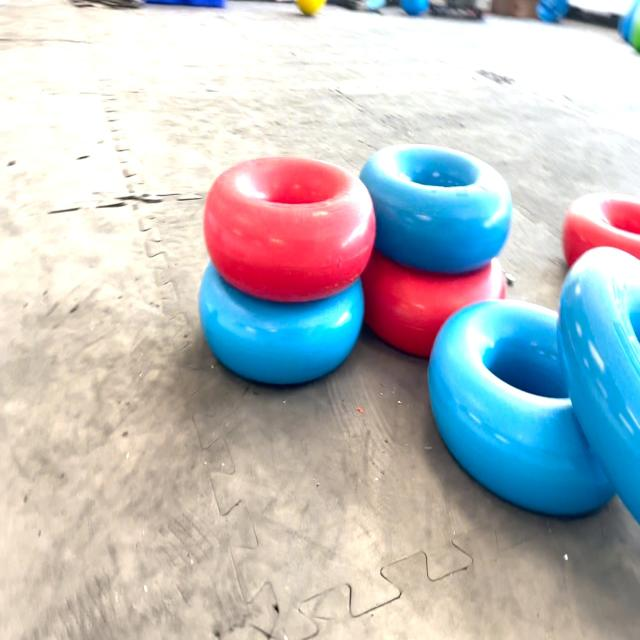Blue-Ring: (429, 300, 615, 516), (558, 247, 640, 522), (199, 264, 364, 384), (360, 144, 512, 273)
Red-Ring: (204, 158, 376, 302), (361, 249, 506, 358), (562, 193, 640, 266)
